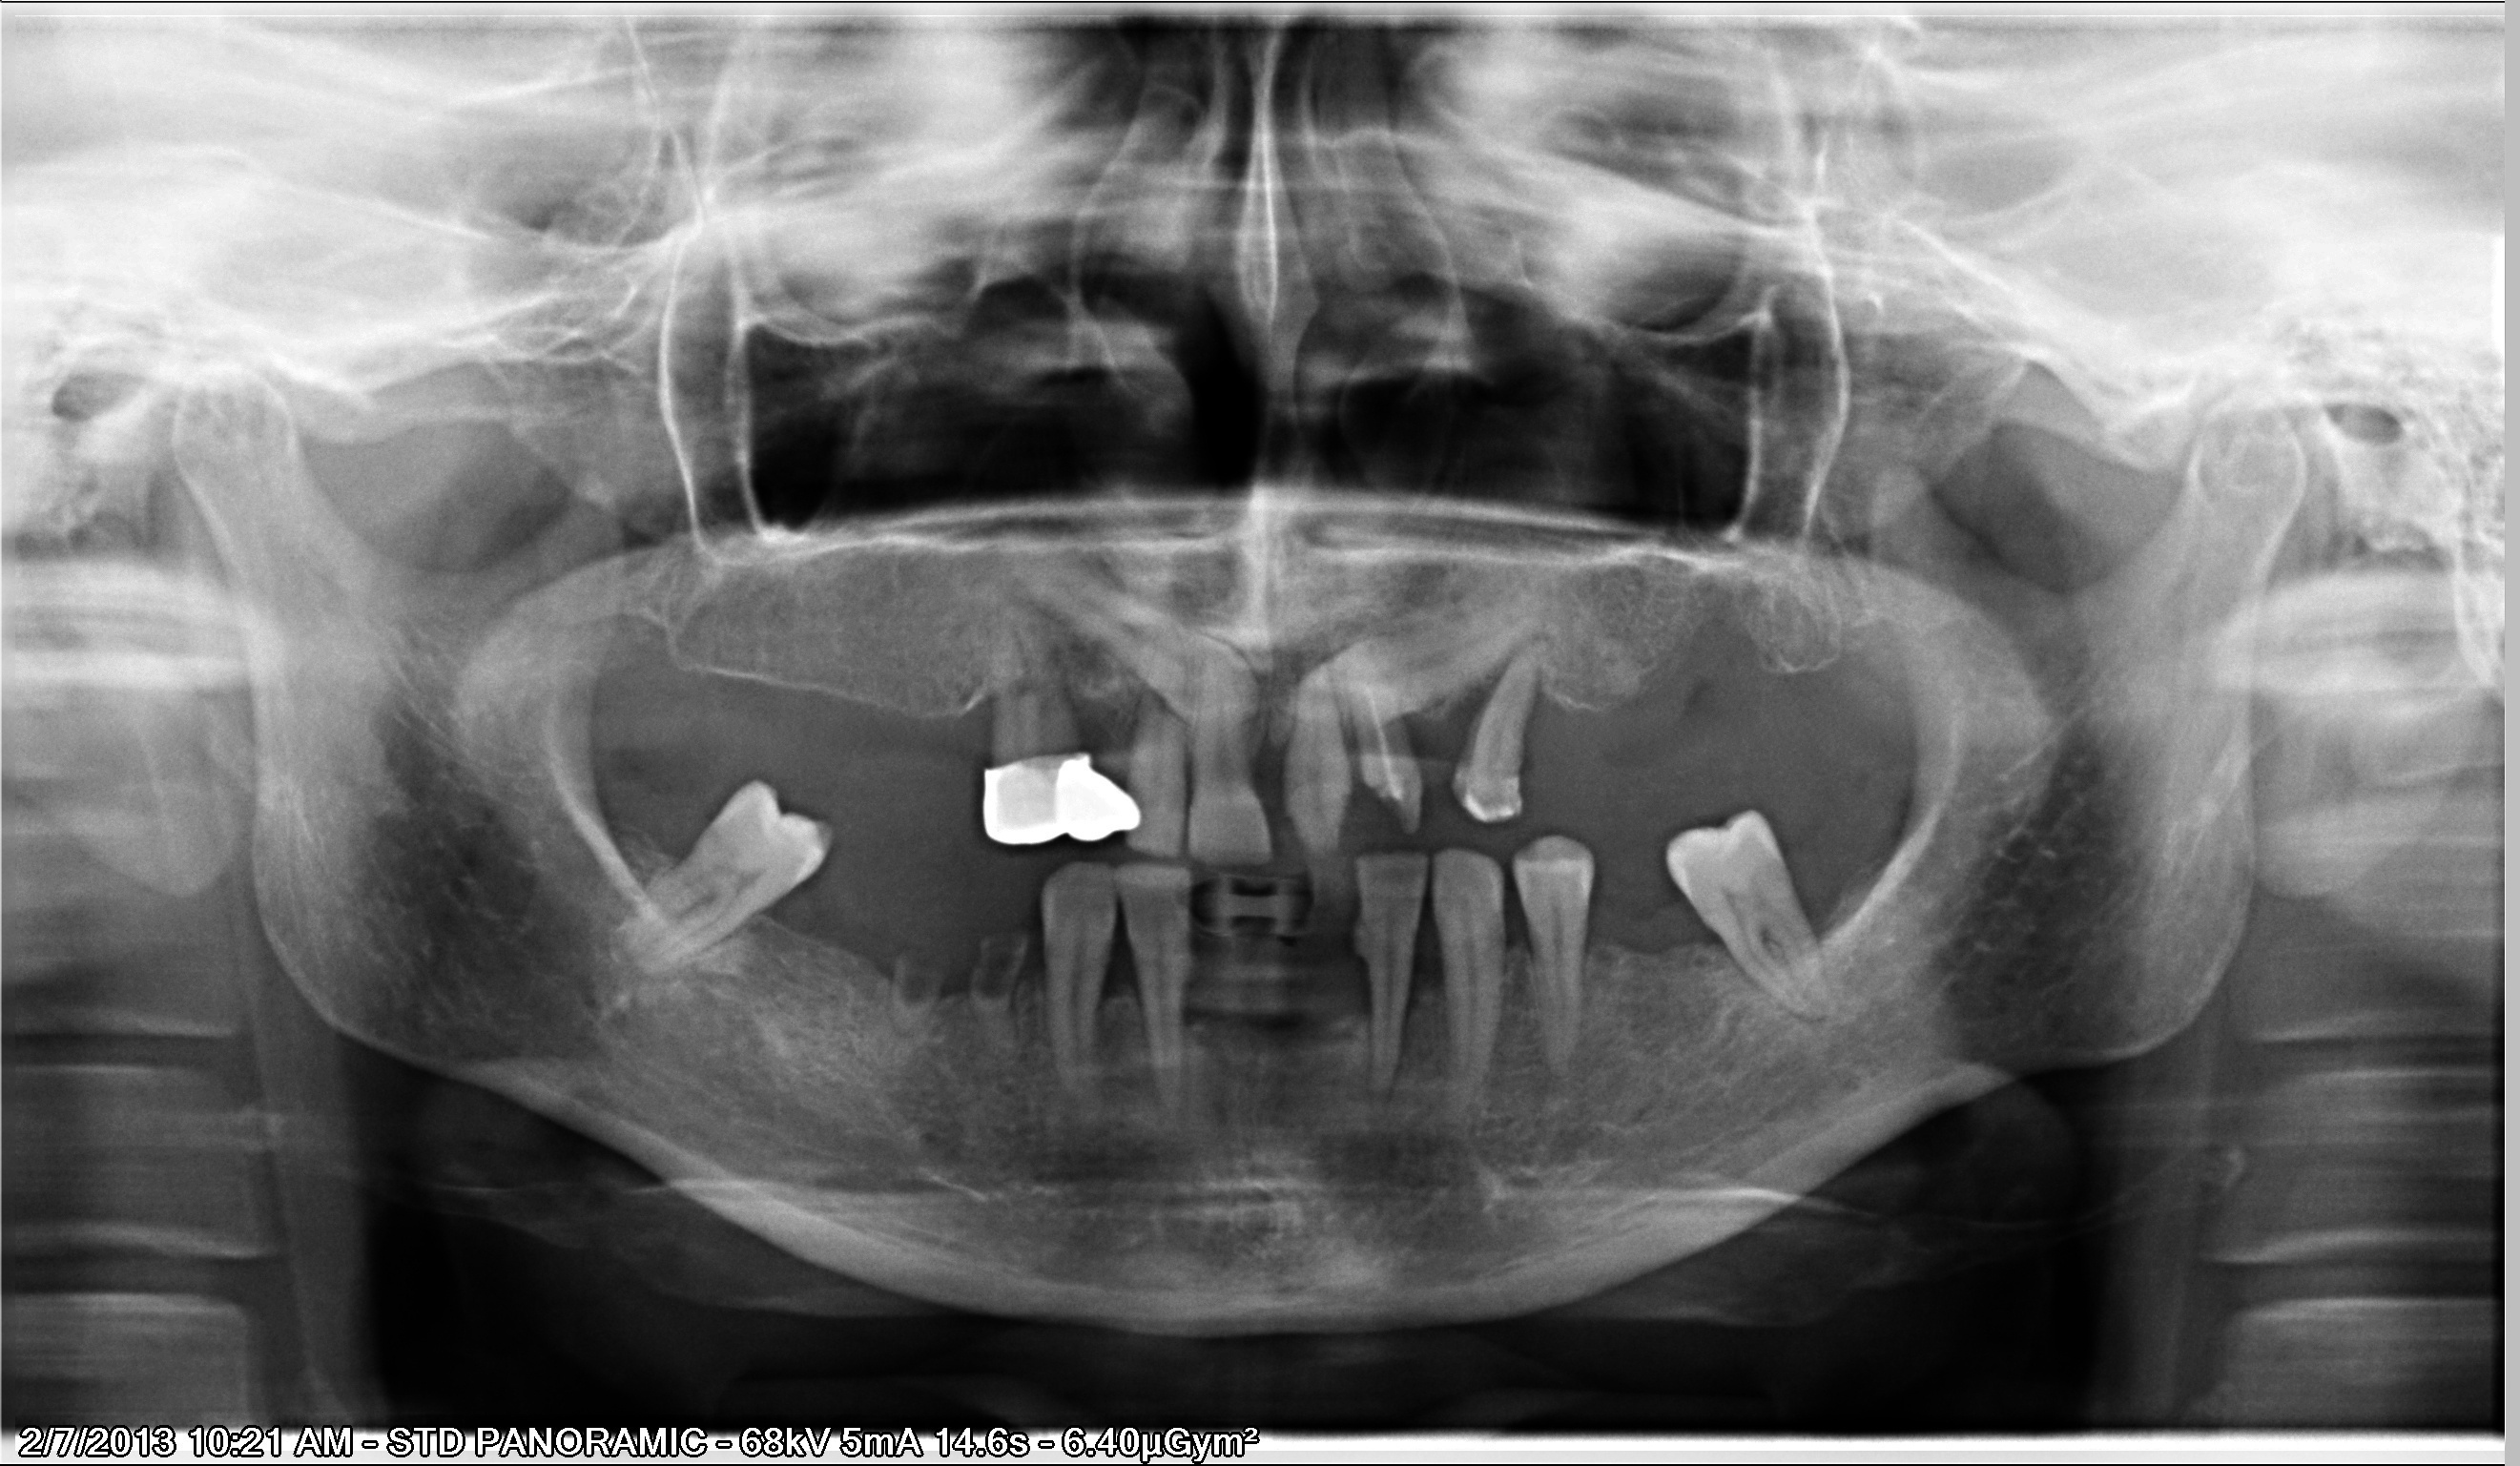API: (740, 300, 2297, 962)
BON: (688, 295, 2202, 1016)
END: (674, 325, 2075, 1126)
IMT: (387, 190, 1647, 925)
PRR: (414, 332, 1553, 1175)
ROT: (452, 401, 1482, 1461)
